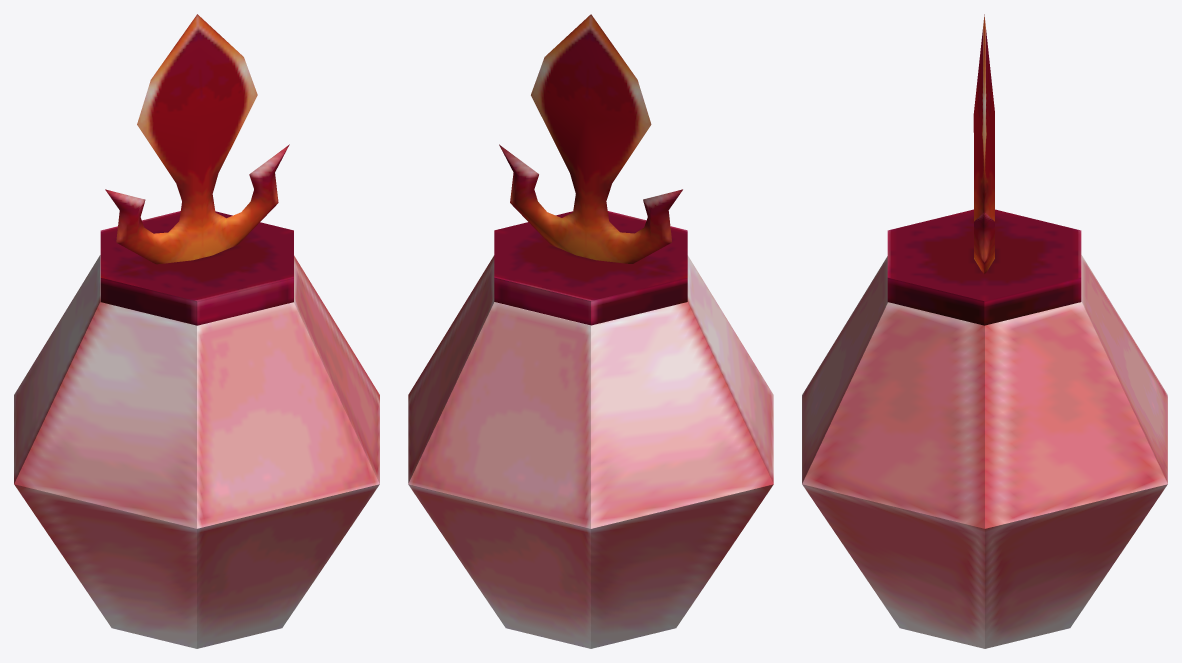
Rendered from ITEM_REVIVE.fbx.
3 views of the same model, side by side, from view 1: azimuth 30°, elevation 25°; view 2: azimuth 150°, elevation 25°; view 3: azimuth 270°, elevation 25° (orthographic).
Visible parts, largest first — view 1: ITEM_REVIVE; view 2: ITEM_REVIVE; view 3: ITEM_REVIVE.
Boxes of the visible parts, x1=… form: ITEM_REVIVE: x1=14, y1=14, x2=379, y2=648; ITEM_REVIVE: x1=408, y1=14, x2=773, y2=648; ITEM_REVIVE: x1=802, y1=14, x2=1167, y2=648.
Size of the model in its own units: 0.6688 by 1.04 by 0.5792.
Materials: 1 (1 with a texture image).
